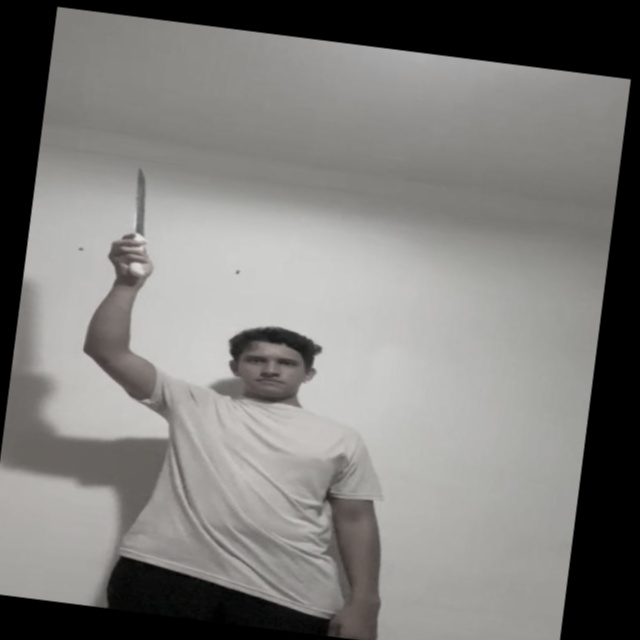Sharp-Object: (126, 168, 155, 238)
